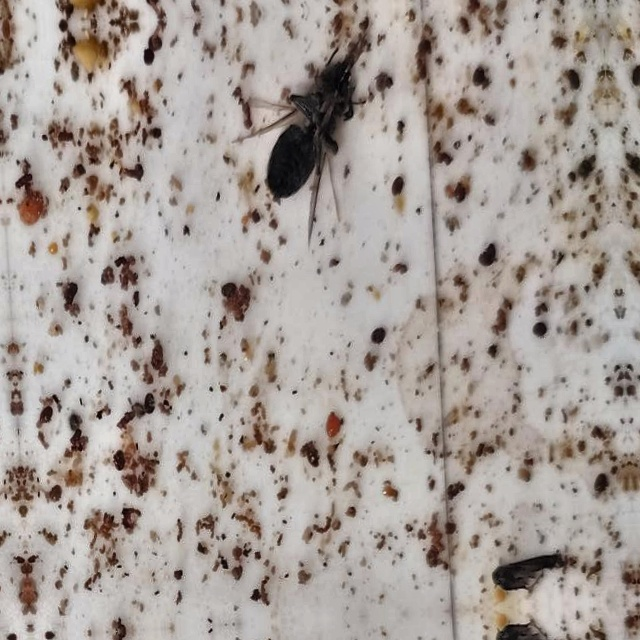varroa: (468, 65, 488, 92), (449, 181, 467, 210), (476, 245, 497, 269), (109, 447, 125, 478), (590, 474, 609, 499), (370, 70, 390, 92), (36, 405, 54, 429), (367, 324, 386, 346), (565, 68, 581, 94), (140, 390, 156, 416), (386, 177, 403, 200), (140, 44, 154, 71), (45, 483, 62, 505), (528, 320, 546, 340), (218, 282, 236, 302), (147, 33, 160, 56)
